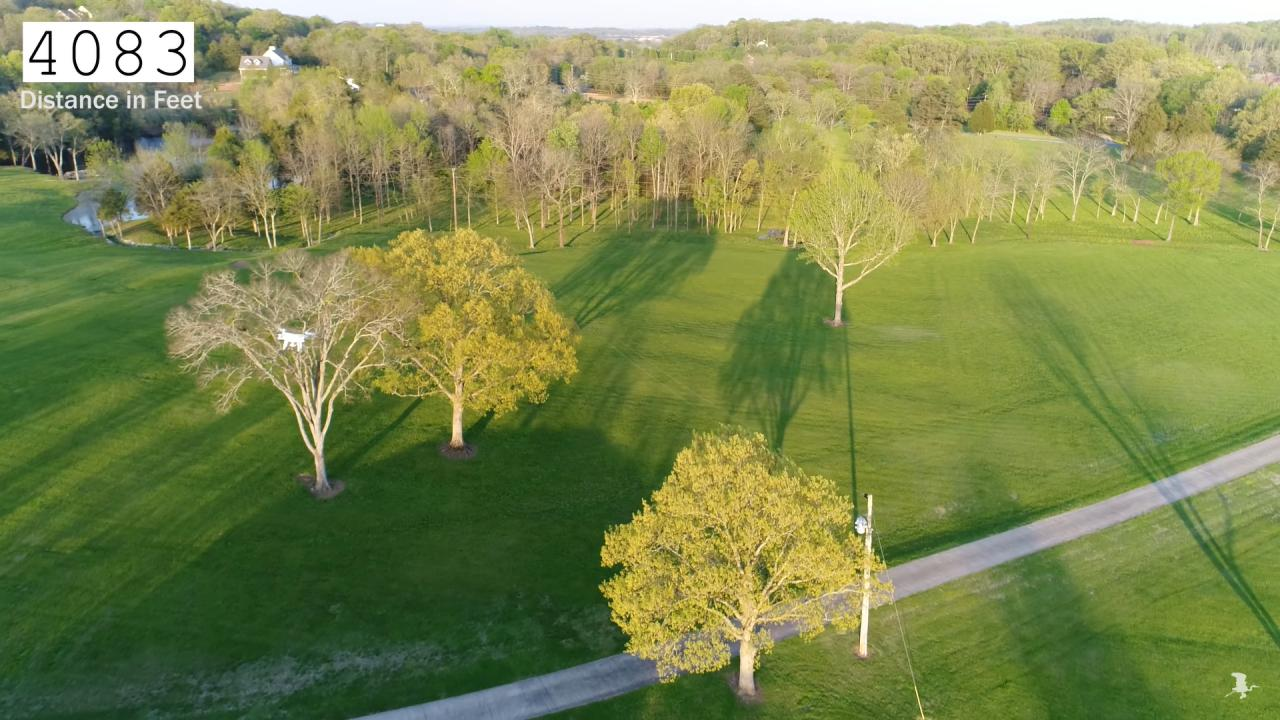Drone: (267, 319, 324, 360)
